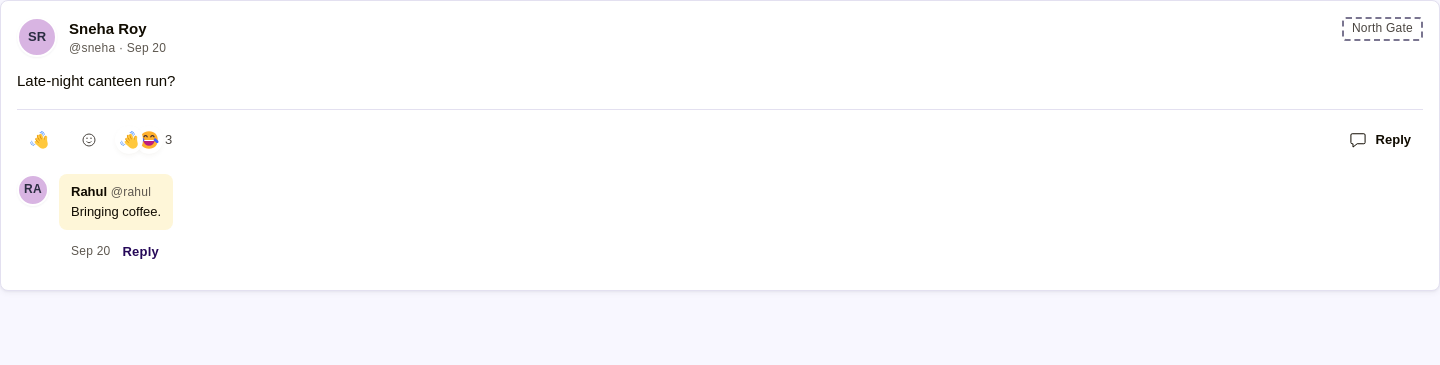
Test case: PostCard › "Reply" under a reply opens the box addressed to that person, cursor after the name
The width and height of the screenshot is (1440, 365).
Click the button with aria-label "Reply to Rahul" at (141, 252), box [118,230,163,274]
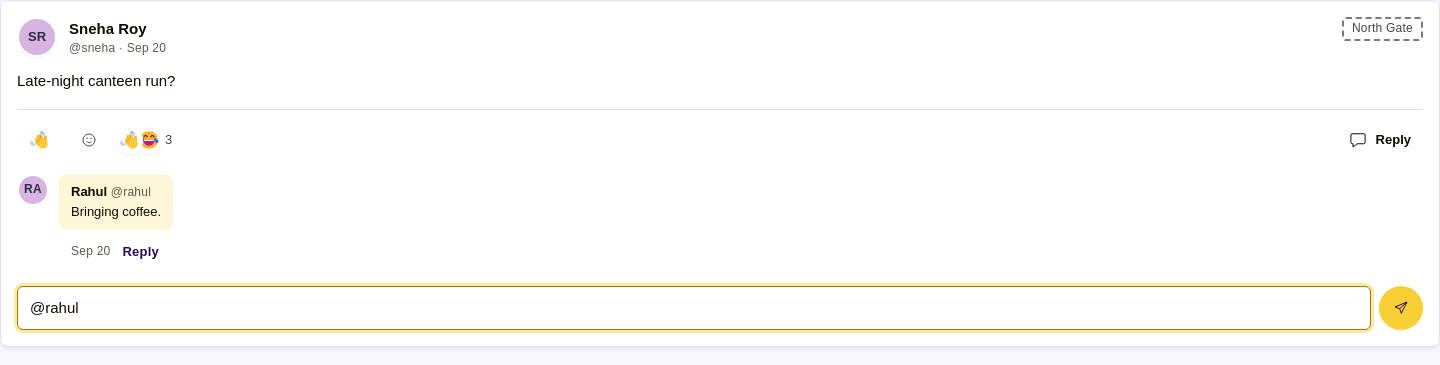
Check: the field named "Write a reply" holds "@rahul ", box [17,286,1371,330]
